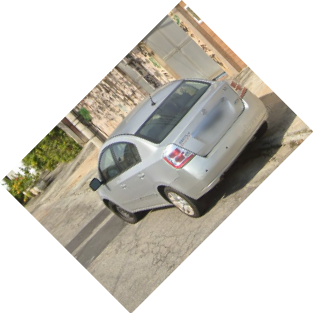car: (90, 77, 268, 229)
